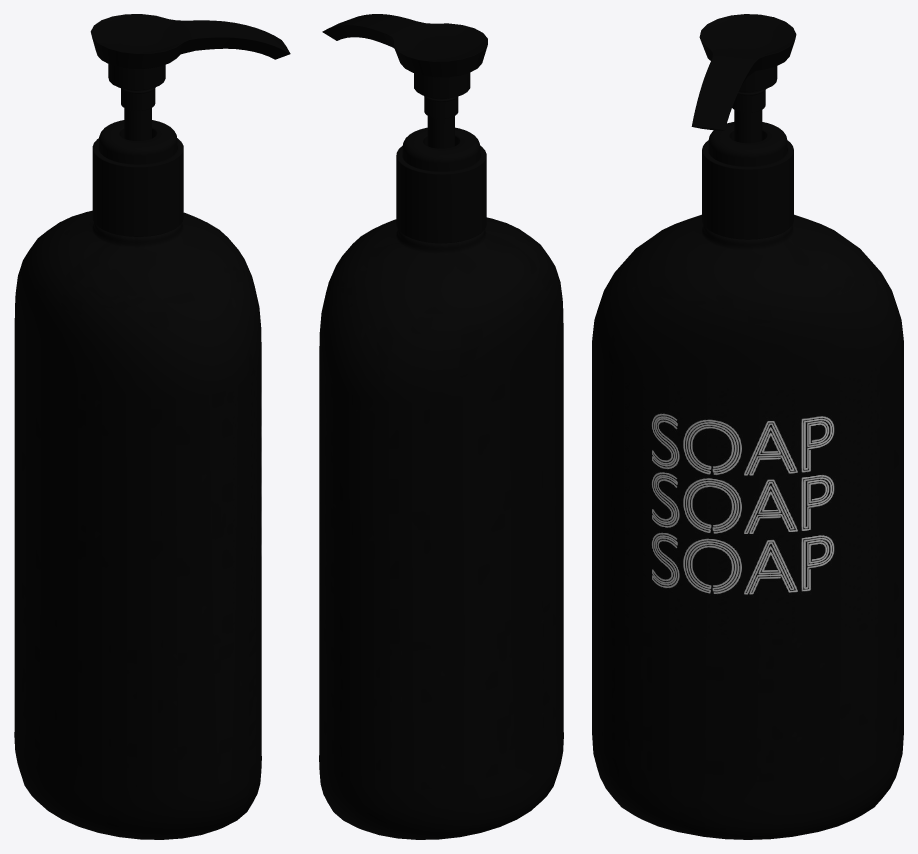
3 views of the same model, side by side, from view 1: azimuth 30°, elevation 25°; view 2: azimuth 150°, elevation 25°; view 3: azimuth 270°, elevation 25° (orthographic).
Parts seen in each view (by area): view 1: Item_Soap; view 2: Item_Soap; view 3: Item_Soap.
Part boxes in pixels (left/top/right/bottom): Item_Soap: left=14, top=14, right=290, bottom=839; Item_Soap: left=319, top=14, right=563, bottom=839; Item_Soap: left=592, top=14, right=903, bottom=839.
Size of the model in its own units: 0.0791 by 0.25 by 0.0923.
Materials: 2 (1 with a texture image).
